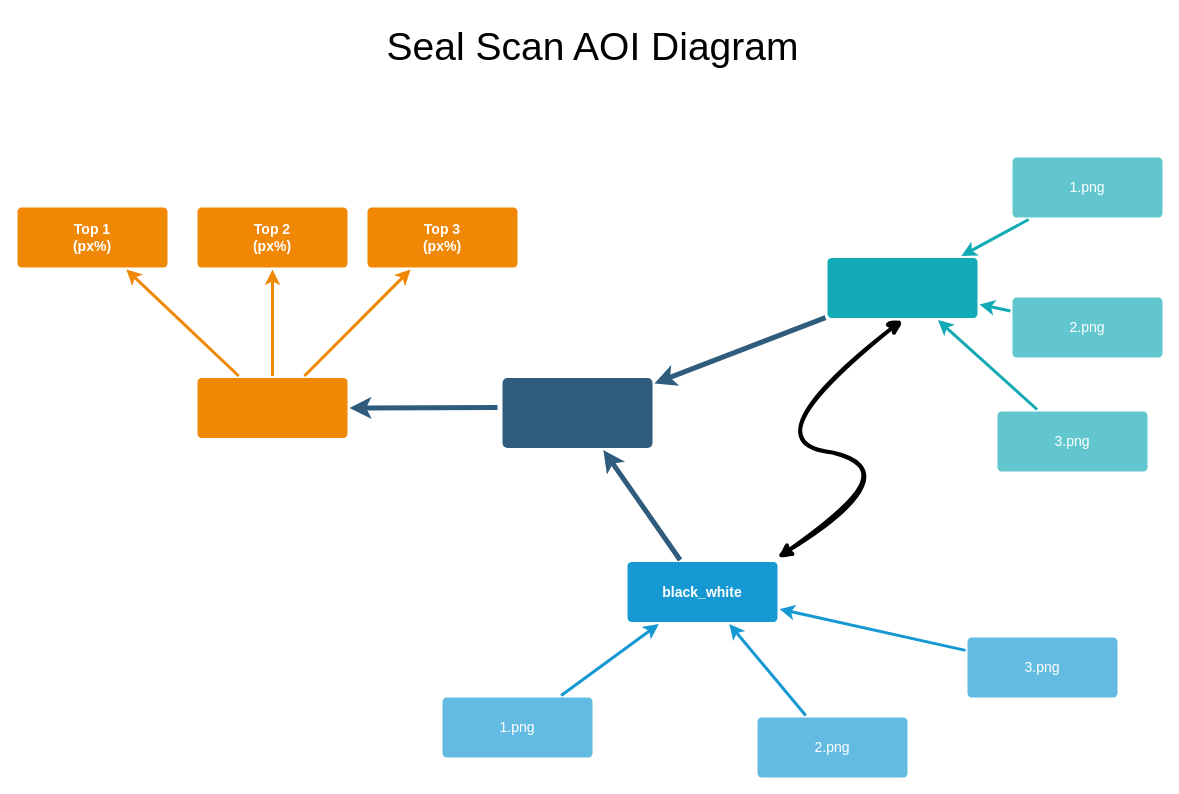
This 1179x794 diagram has some shape labels left out. Each missing label, with the centre of its shape:
"Advertising" belongs at point (577, 413).
"original" belongs at point (902, 288).
"Similarity (px%)" belongs at point (272, 408).
